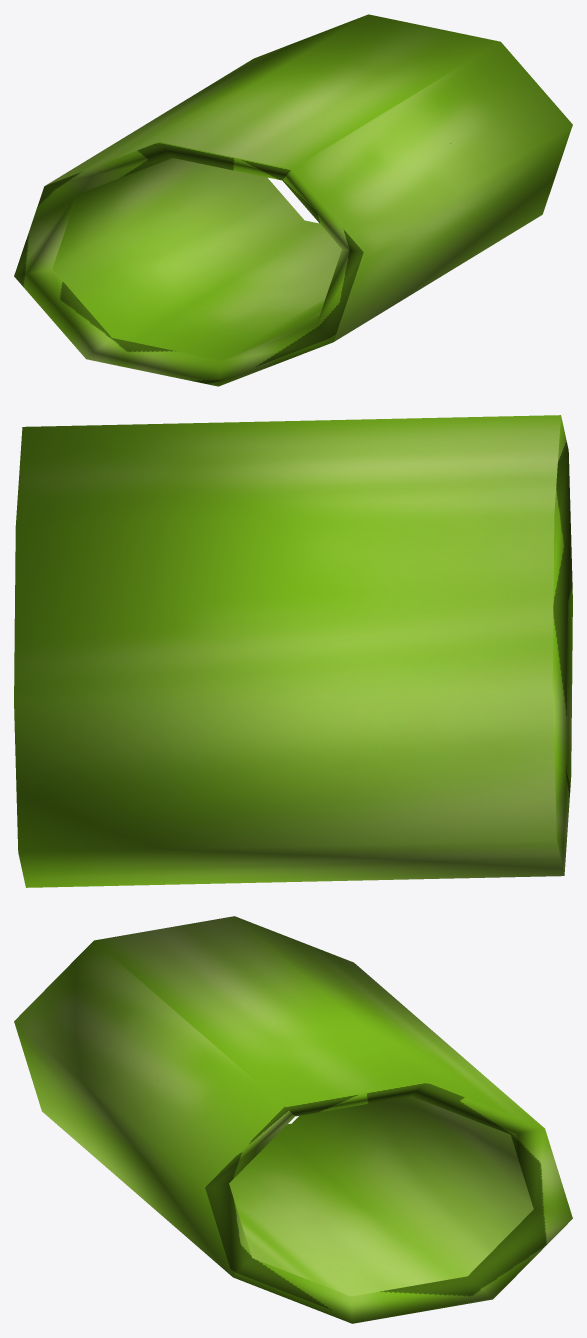
File: chopped_spring.fbx
3 renders of one model, top to bottom at view 1: azimuth 30°, elevation 25°; view 2: azimuth 150°, elevation 25°; view 3: azimuth 270°, elevation 25°, orthographic. The views are drawn at different scales.
Visible parts, largest first — view 1: chopped_springOnion.014; view 2: chopped_springOnion.014; view 3: chopped_springOnion.014.
Part boxes in pixels (<box>): chopped_springOnion.014: <box>14,14,572,386</box>; chopped_springOnion.014: <box>14,415,572,887</box>; chopped_springOnion.014: <box>14,916,572,1323</box>.
Size of the model in its own units: 11 by 5.63 by 10.98.
